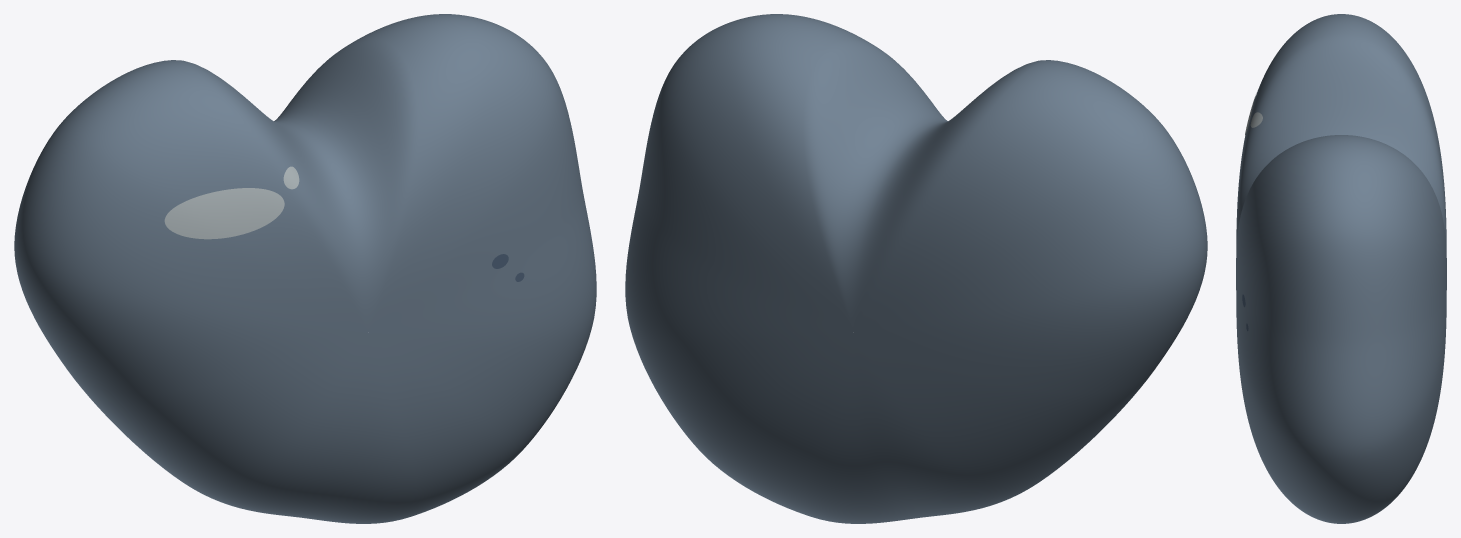
The model's file is Lucky_Pebble.glb.
3 renders of one model, left to right at view 1: azimuth 30°, elevation 25°; view 2: azimuth 150°, elevation 25°; view 3: azimuth 270°, elevation 25°, orthographic. The views are drawn at different scales.
Parts seen in each view (by area): view 1: Lucky_Pebble; view 2: Lucky_Pebble; view 3: Lucky_Pebble.
Part boxes in pixels (left/top/right/bottom): Lucky_Pebble: left=14, top=14, right=596, bottom=523; Lucky_Pebble: left=625, top=14, right=1207, bottom=523; Lucky_Pebble: left=1236, top=14, right=1446, bottom=523.
Size of the model in its own units: 0.9612 by 0.8091 by 0.39.
